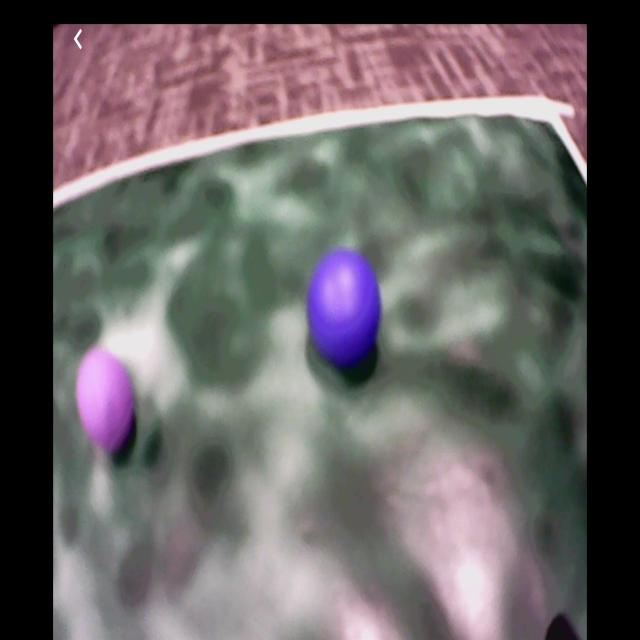ball: (308, 251, 381, 366), (77, 352, 134, 446)
